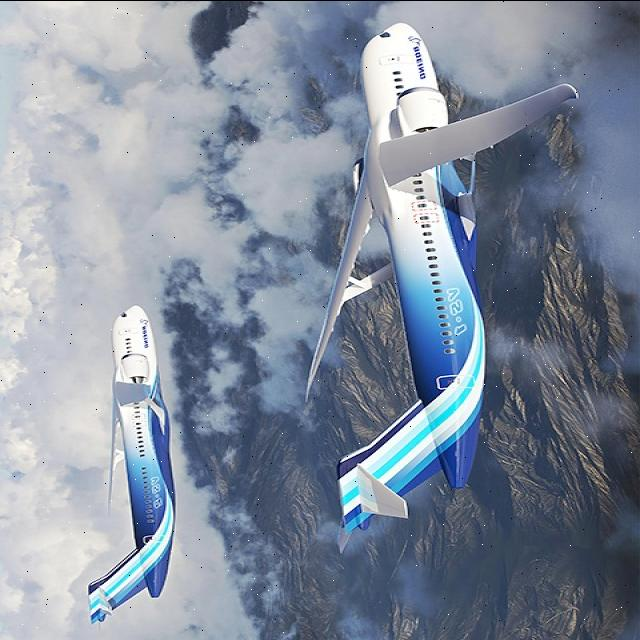aircraft: (256, 0, 590, 609), (59, 273, 218, 640)
